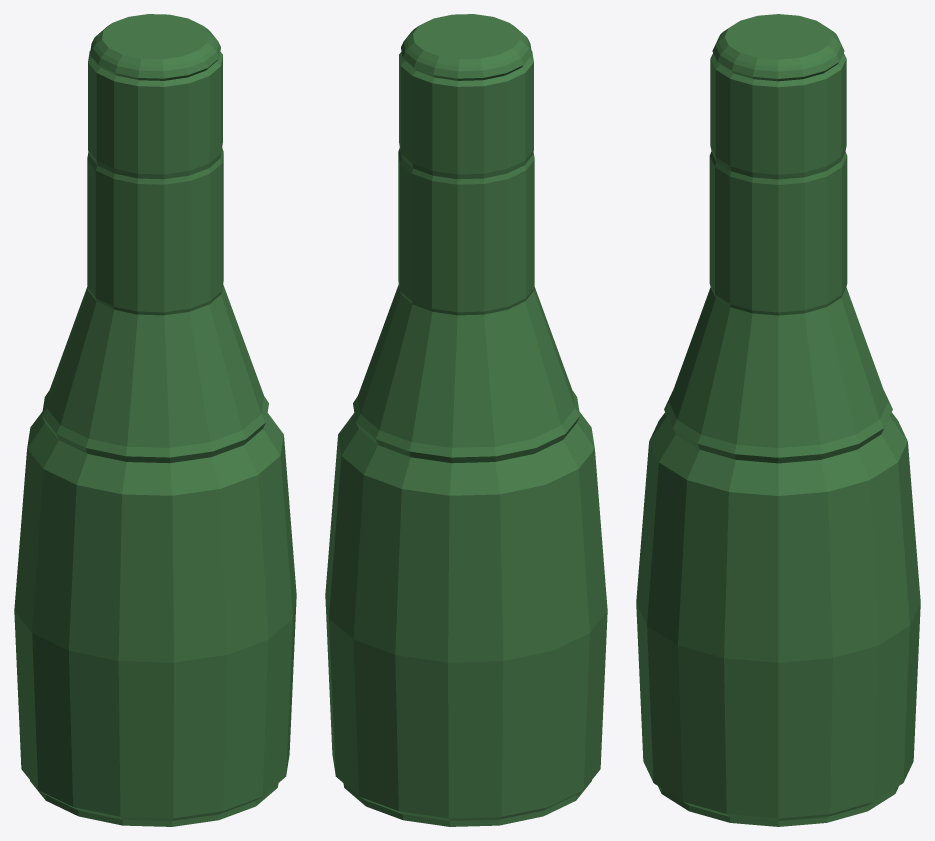
File: glass_bottle.glb
3 renders of one model, left to right at view 1: azimuth 30°, elevation 25°; view 2: azimuth 150°, elevation 25°; view 3: azimuth 270°, elevation 25°, orthographic.
Visible parts, largest first — view 1: Cylinder; view 2: Cylinder; view 3: Cylinder.
Boxes of the visible parts, <box> form: Cylinder: <box>14,14,296,826</box>; Cylinder: <box>325,14,607,826</box>; Cylinder: <box>636,14,920,826</box>.
Size of the model in its own units: 0.2248 by 0.6422 by 0.2248.
